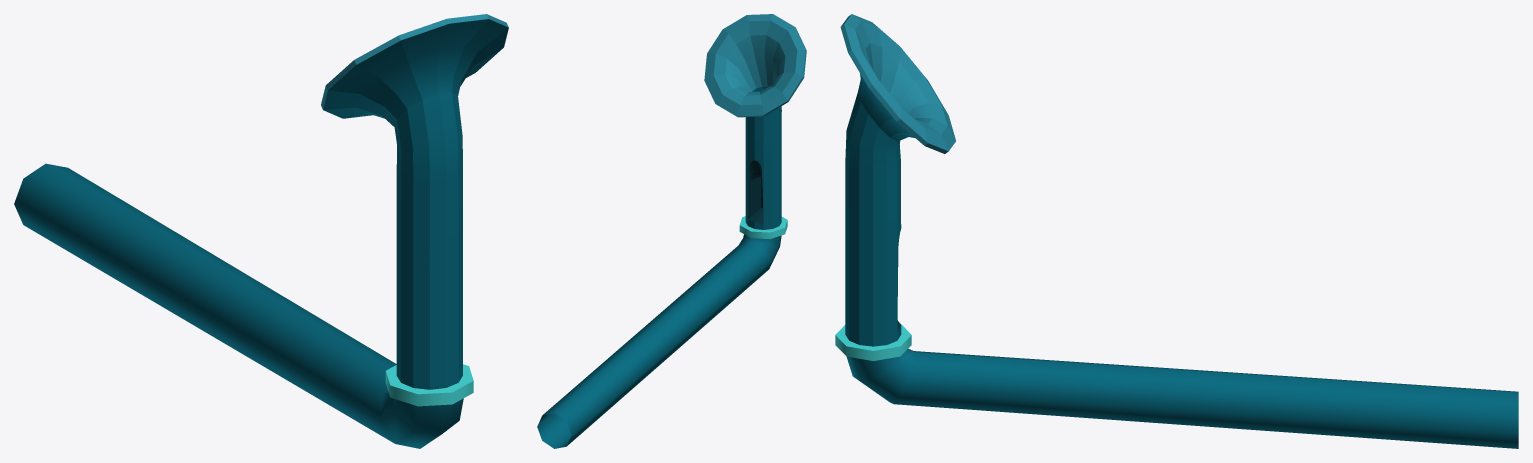
File: ENV_Xylophone_Pipe_05.fbx
3 renders of one model, left to right at view 1: azimuth 30°, elevation 25°; view 2: azimuth 150°, elevation 25°; view 3: azimuth 270°, elevation 25°, orthographic. The views are drawn at different scales.
Parts seen in each view (by area): view 1: ENV_Xylophone_Pipe_05; view 2: ENV_Xylophone_Pipe_05; view 3: ENV_Xylophone_Pipe_05.
Part boxes in pixels (x1,y1,x2,y2): ENV_Xylophone_Pipe_05: (14,14,508,448); ENV_Xylophone_Pipe_05: (537,14,806,448); ENV_Xylophone_Pipe_05: (835,14,1518,448).
Size of the model in its own units: 2198 by 6014 by 8792.
